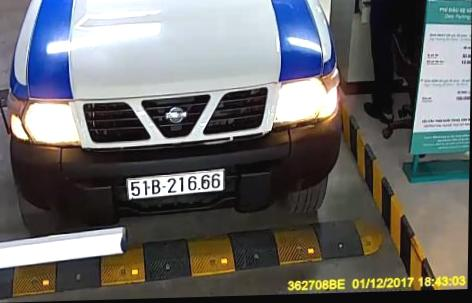License_Plate: (123, 168, 231, 201)
